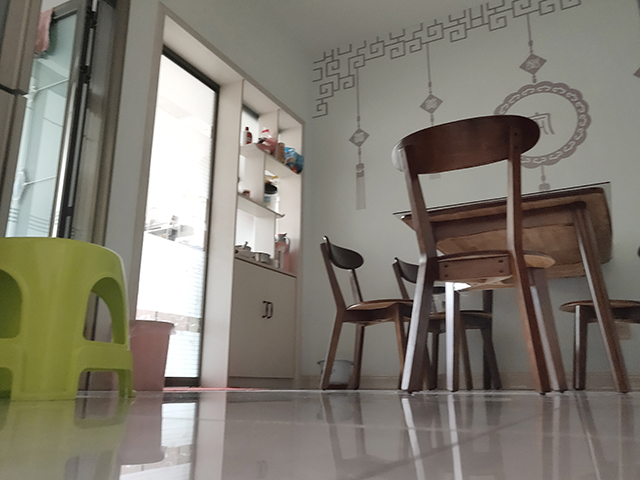cabinet: (198, 253, 295, 389)
carpet: (161, 385, 267, 393)
stool: (389, 112, 569, 398), (1, 235, 139, 403), (319, 237, 428, 393), (556, 246, 640, 393)
table: (390, 179, 632, 396)
trashcan: (117, 317, 176, 393)
